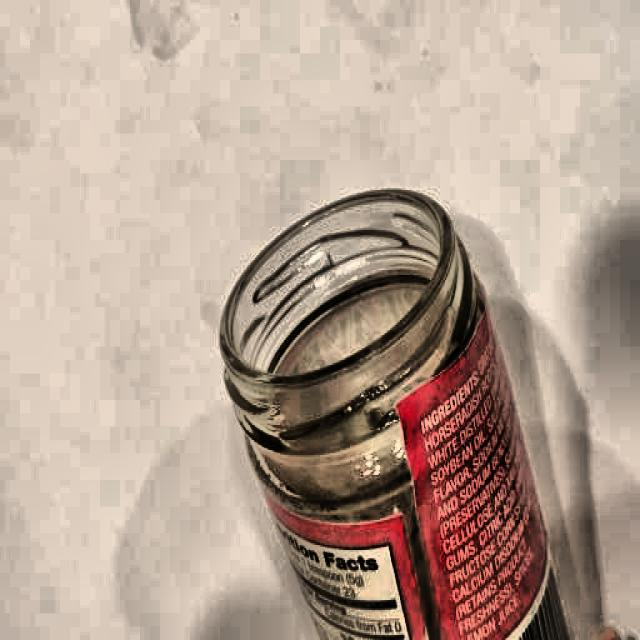glass: (216, 178, 583, 640)
